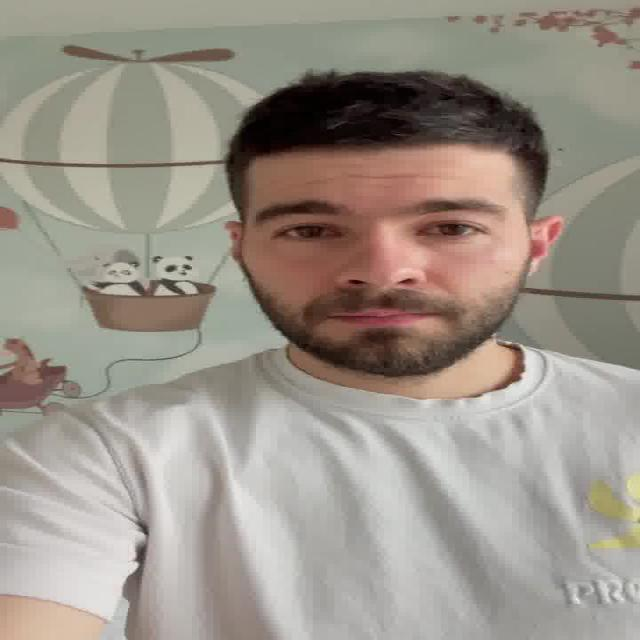earlobe: (526, 216, 566, 275), (223, 220, 243, 264)
